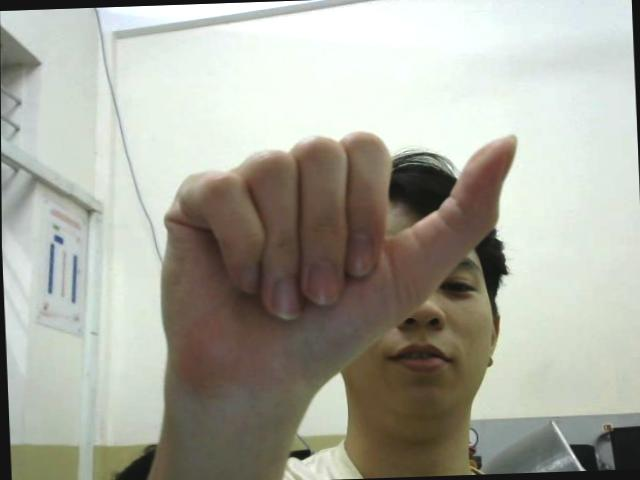A: (152, 130, 531, 382)
